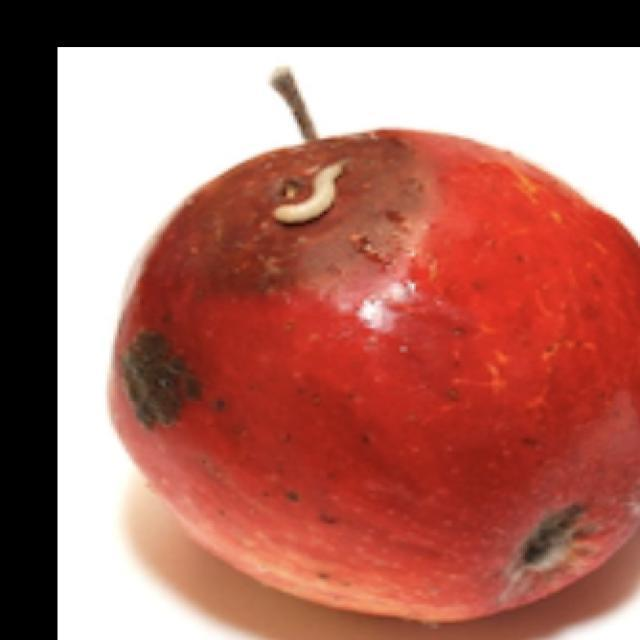Rotten: (123, 111, 640, 639)
